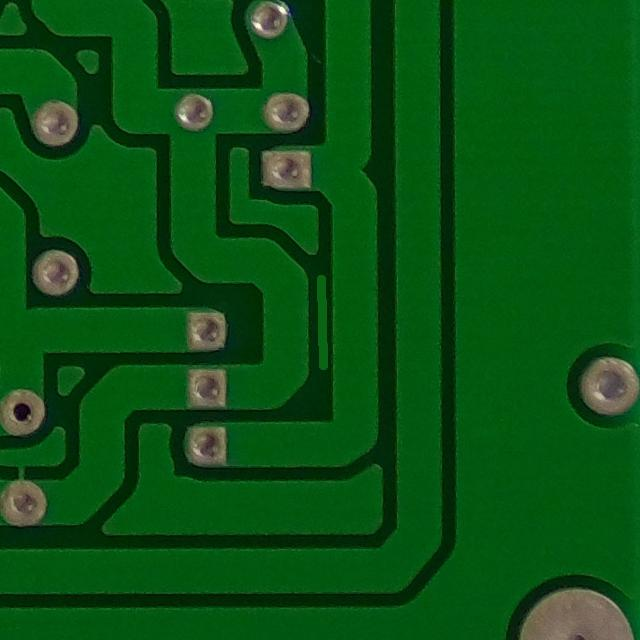spurious_copper: (294, 261, 347, 379)
